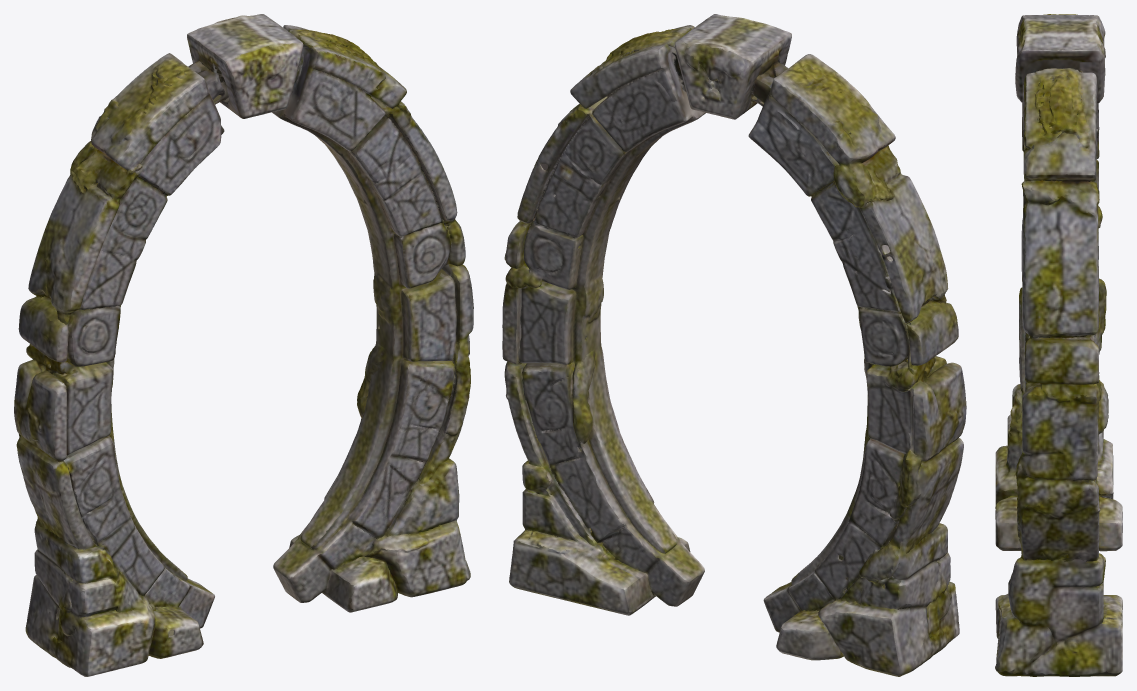
The model's file is PortalOff_01.fbx.
3 renders of one model, left to right at view 1: azimuth 30°, elevation 25°; view 2: azimuth 150°, elevation 25°; view 3: azimuth 270°, elevation 25°, orthographic. The views are drawn at different scales.
Parts seen in each view (by area): view 1: geometry_0; view 2: geometry_0; view 3: geometry_0.
Part boxes in pixels (box(x1,y1,x2,y2)): geometry_0: box(14, 14, 473, 676); geometry_0: box(502, 14, 966, 676); geometry_0: box(995, 14, 1122, 676).
Size of the model in its own units: 351 by 450 by 93.19.
